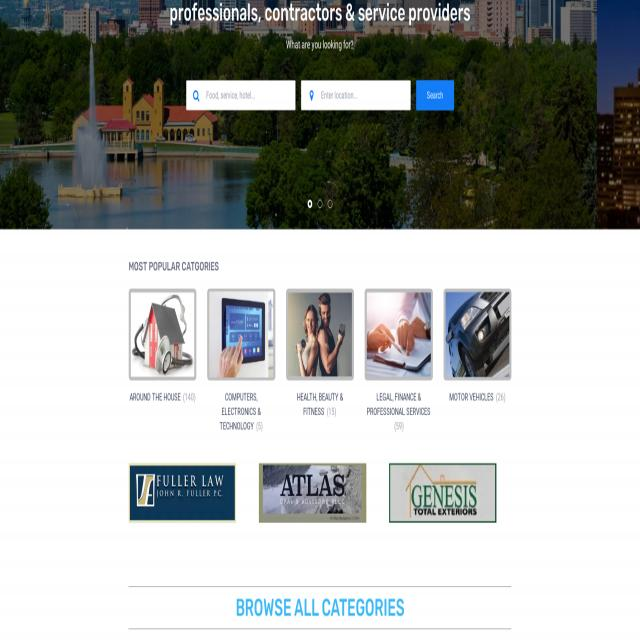button: (128, 463, 236, 523), (389, 463, 497, 523), (259, 463, 366, 523), (128, 288, 196, 381), (207, 288, 275, 381), (286, 288, 354, 381), (365, 288, 433, 381), (443, 288, 511, 381), (416, 80, 454, 111), (326, 198, 334, 211), (316, 198, 324, 210), (306, 198, 313, 210)
field: (300, 80, 410, 111), (186, 80, 295, 111)
